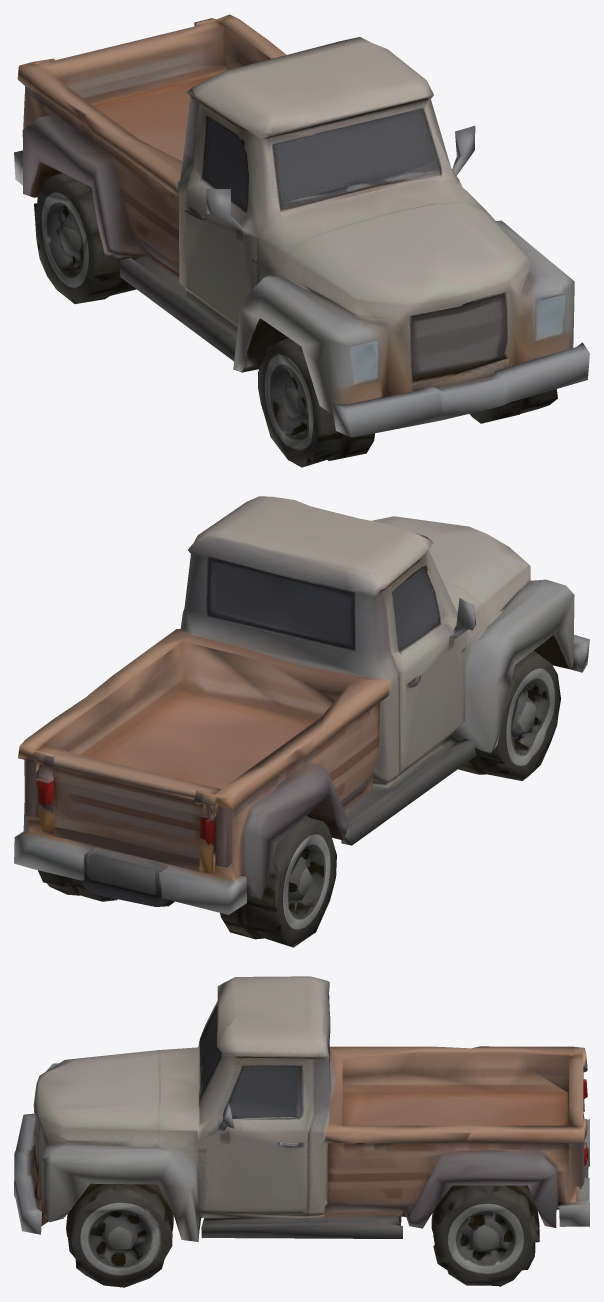
File: pickup.glb
The picture shows the model from 3 angles, top to bottom: view 1: azimuth 30°, elevation 25°; view 2: azimuth 150°, elevation 25°; view 3: azimuth 270°, elevation 25°; orthographic projection. The views are drawn at different scales.
Parts seen in each view (by area): view 1: tripo_node_d559dd00-0388-46d7-adc1-a260e9c5cf3d; view 2: tripo_node_d559dd00-0388-46d7-adc1-a260e9c5cf3d; view 3: tripo_node_d559dd00-0388-46d7-adc1-a260e9c5cf3d.
Boxes of the visible parts, box(x1,y1,x2,y2) form: tripo_node_d559dd00-0388-46d7-adc1-a260e9c5cf3d: box(14, 14, 589, 467); tripo_node_d559dd00-0388-46d7-adc1-a260e9c5cf3d: box(14, 496, 589, 947); tripo_node_d559dd00-0388-46d7-adc1-a260e9c5cf3d: box(14, 976, 589, 1287).
Size of the model in its own units: 0.4369 by 0.4536 by 1.
1 material, 1 textured.
